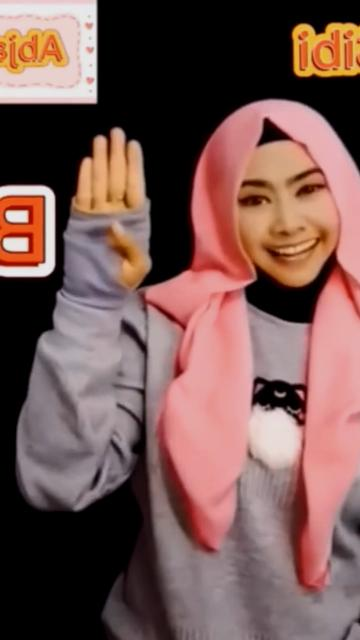B: (63, 125, 152, 298)
